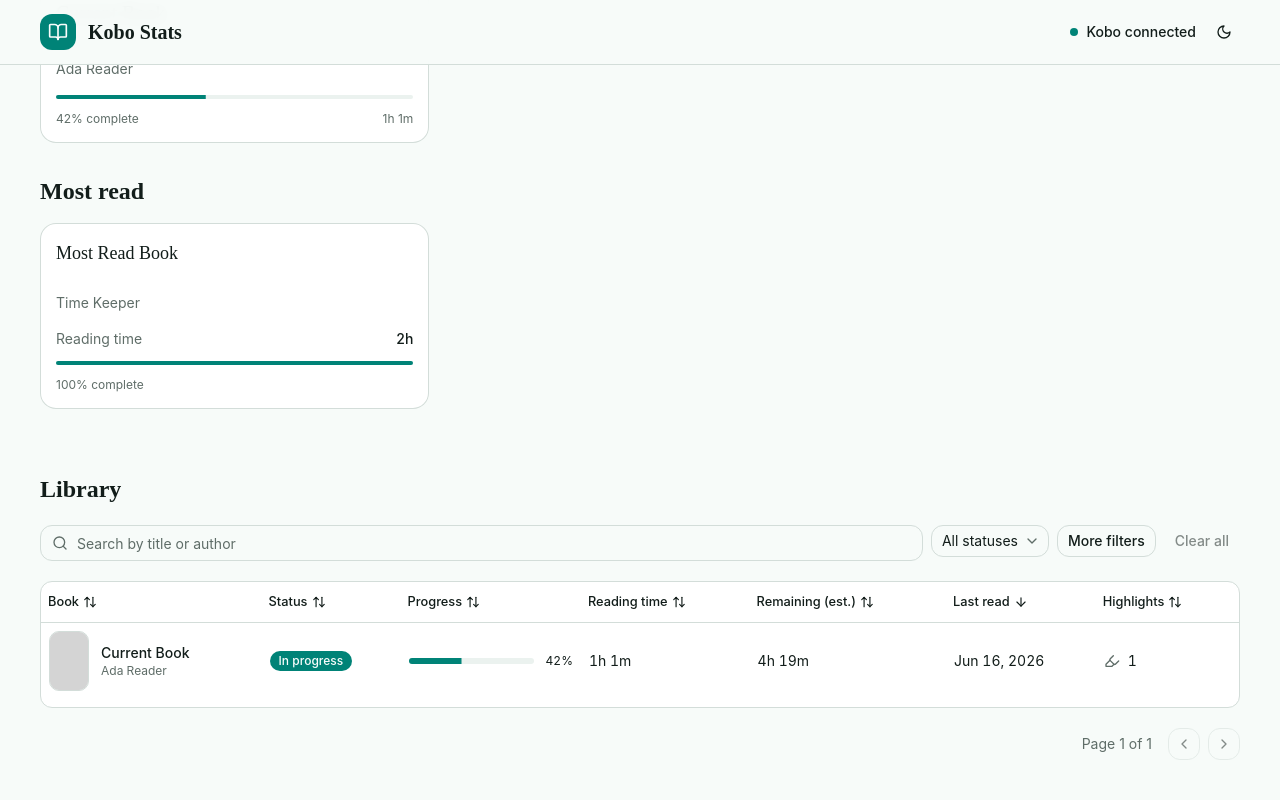
Test: shows explicit recent sessions separately from undated aggregate telemetry
(page scrolled)
Click the row "Current Book Ada Reader": (69, 660) [41,622,1239,698]
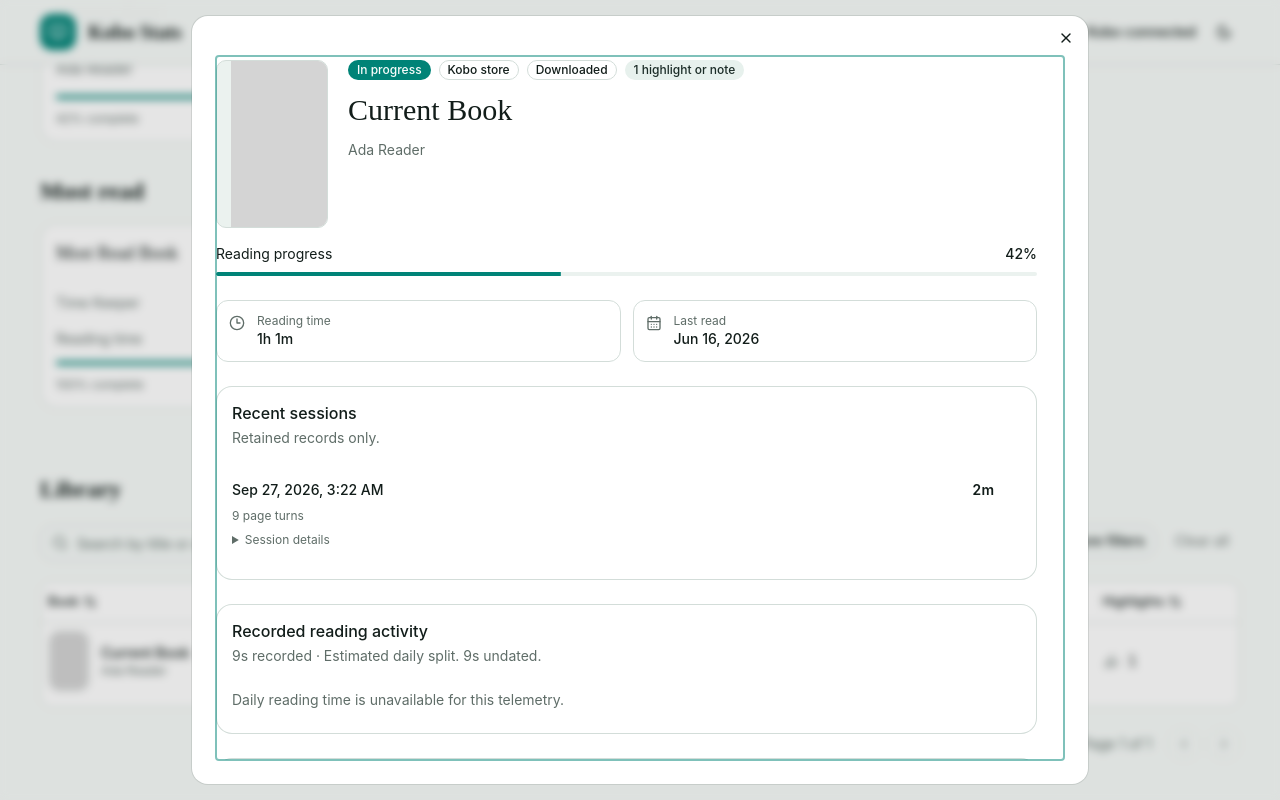
Result: the text "Recent sessions" is shown at [232,403,357,423]
Result: the text "Retained records only." is shown at [232,429,380,446]
Result: the number of list items is 1 at [232,468,994,560]
Click the heading "Session details": (281, 540) [232,532,330,548]
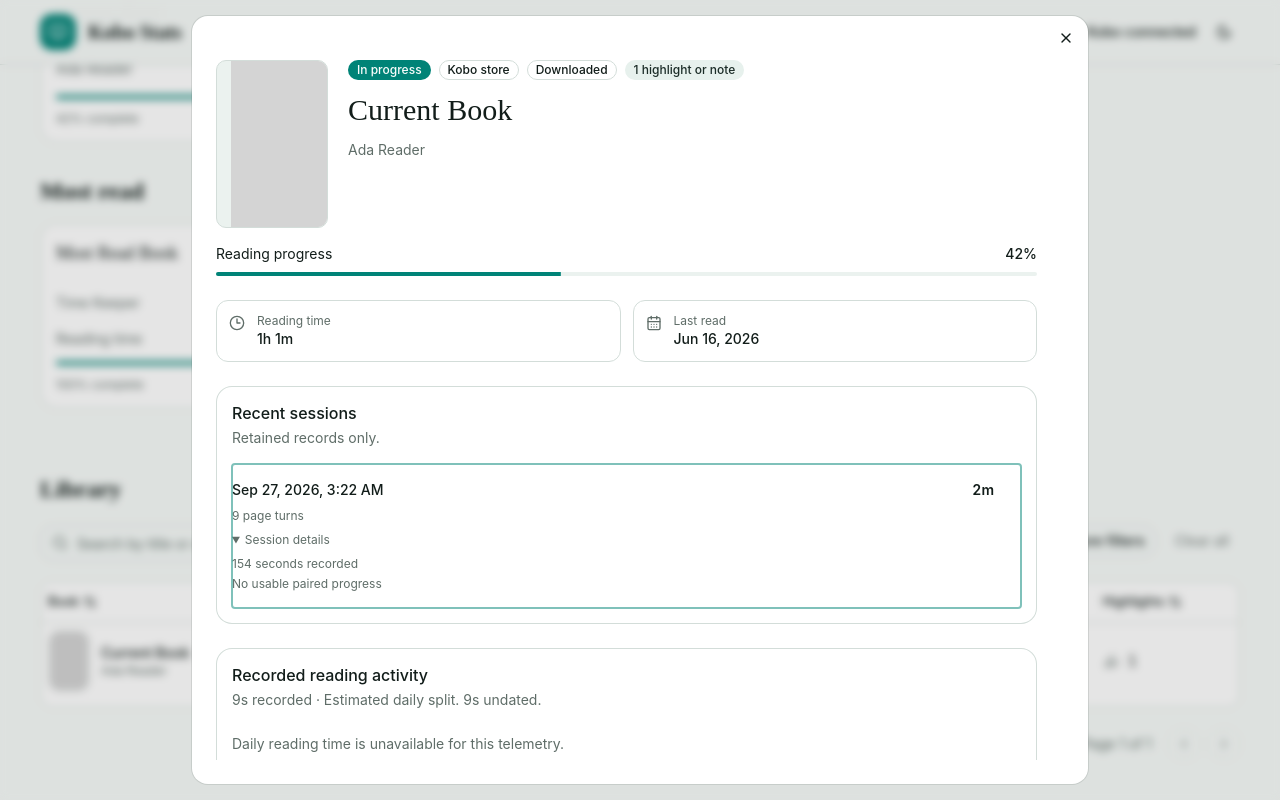
Result: the text "9s recorded · Estimated daily split. 9s undated." is shown at [232,691,542,708]
Result: the text "154 seconds recorded" is shown at [232,556,358,571]
Result: the text "No usable paired progress" is shown at [232,576,382,591]
